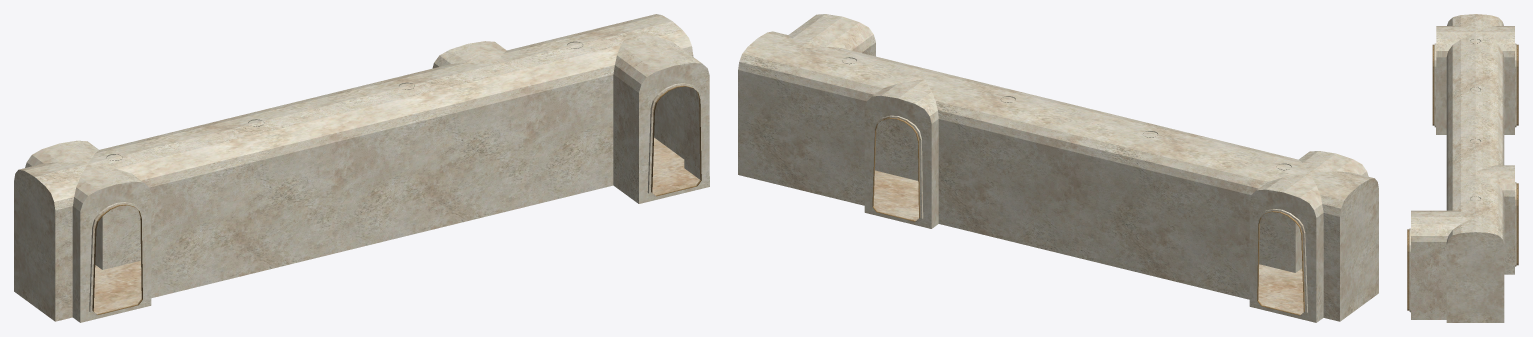
File: ply_tato_house_lg_s01_fp1_r5_longhall_mesh_r5_longhall.fbx
The picture shows the model from 3 angles, left to right: view 1: azimuth 30°, elevation 25°; view 2: azimuth 150°, elevation 25°; view 3: azimuth 270°, elevation 25°; orthographic projection. The views are drawn at different scales.
Parts seen in each view (by area): view 1: mesh_node; view 2: mesh_node; view 3: mesh_node.
Part boxes in pixels (left/top/right/bottom): mesh_node: left=14, top=14, right=709, bottom=322; mesh_node: left=738, top=14, right=1378, bottom=322; mesh_node: left=1407, top=14, right=1518, bottom=322.
Bounding box in the file's own units: 18 × 3.5 × 3.87.
